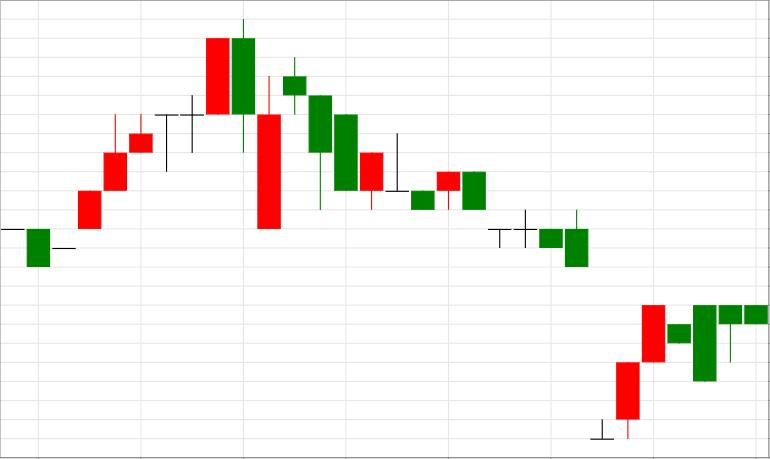bearish_engulfing_fall: (78, 19, 255, 230)
